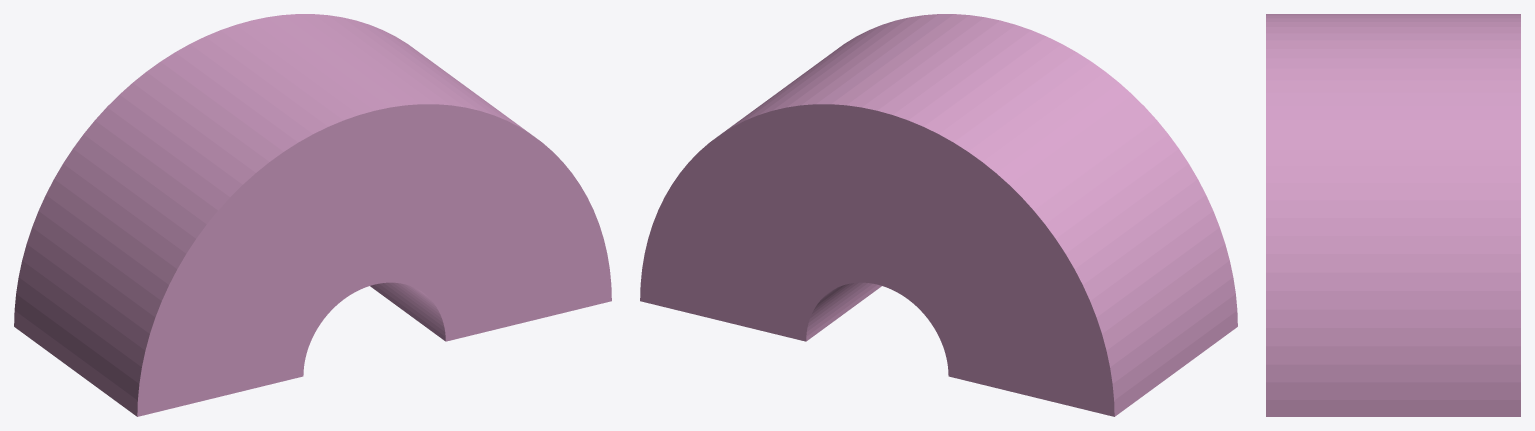
The model's file is revolved_gable_cavity_demo.glb.
The picture shows the model from 3 angles, left to right: view 1: azimuth 30°, elevation 25°; view 2: azimuth 150°, elevation 25°; view 3: azimuth 270°, elevation 25°; orthographic projection. The views are drawn at different scales.
Parts seen in each view (by area): view 1: gable_cavity_cutaway; view 2: gable_cavity_cutaway; view 3: gable_cavity_cutaway.
Part boxes in pixels (x1,y1,x2,y2): gable_cavity_cutaway: (14, 14, 611, 416); gable_cavity_cutaway: (640, 14, 1237, 416); gable_cavity_cutaway: (1266, 14, 1520, 416).
Bounding box in the file's own units: 40 × 20 × 18.
